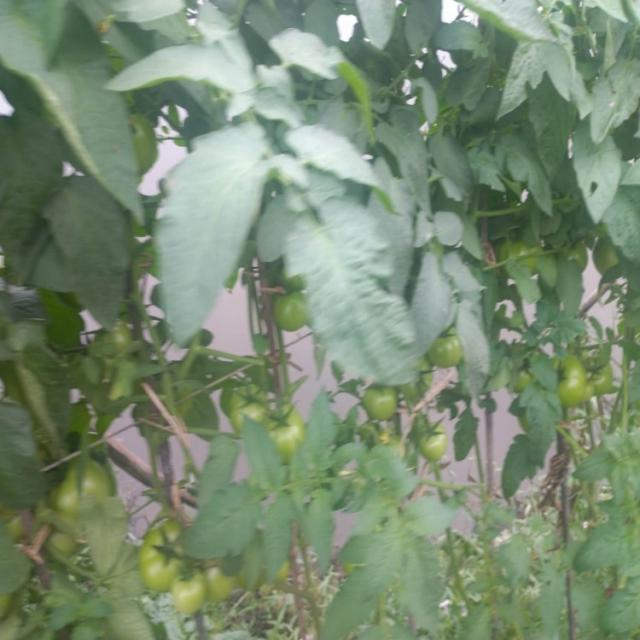tomato: (147, 520, 236, 612), (50, 461, 119, 513), (497, 232, 544, 282), (272, 290, 315, 338), (269, 407, 304, 462), (132, 116, 163, 175), (227, 379, 262, 431), (423, 330, 471, 367), (586, 351, 620, 400), (550, 360, 583, 408), (418, 424, 452, 465), (361, 389, 400, 421), (44, 529, 80, 561), (594, 237, 625, 274), (404, 371, 439, 400), (3, 505, 26, 547), (105, 319, 137, 349), (515, 361, 537, 401), (562, 242, 586, 278), (1, 592, 16, 623)
